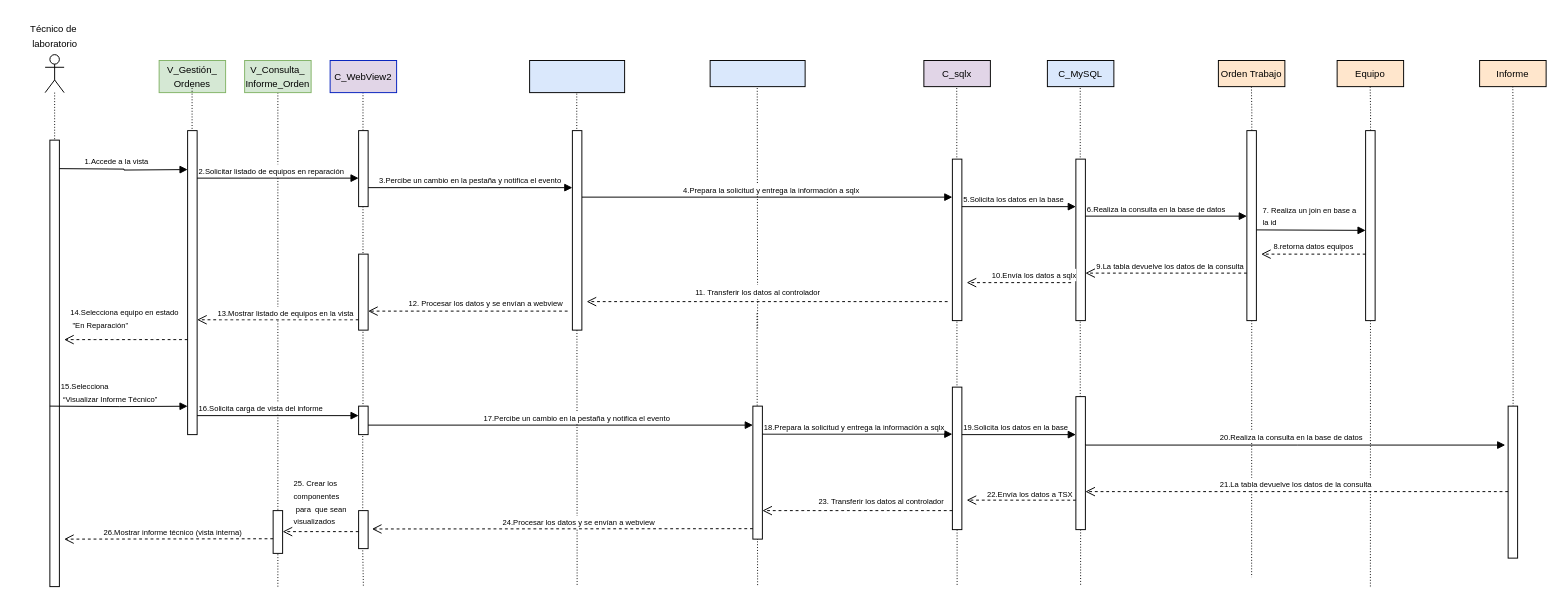
This 1563x604 diagram has some shape labels left out. Here are the shapes that lost their labels. From the top down, the centre of each, then its label:
point 577,76: C_Equipo_ Ordenes
point 757,73: C_Admin_Informe
